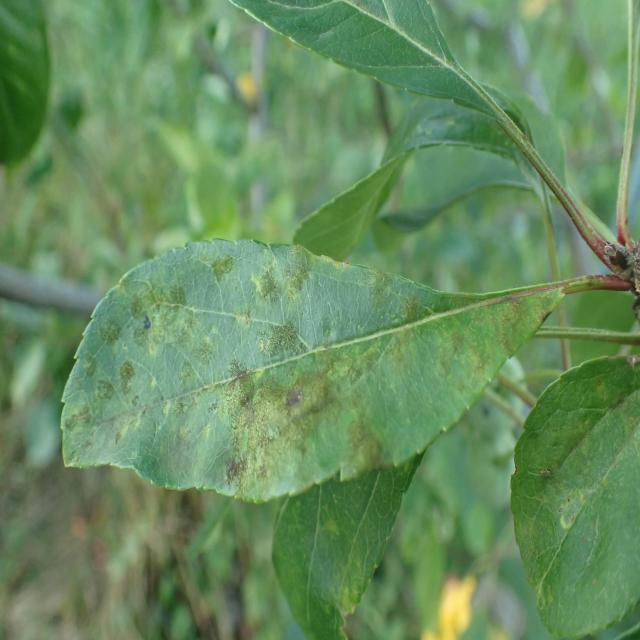scab: (45, 252, 557, 503)
